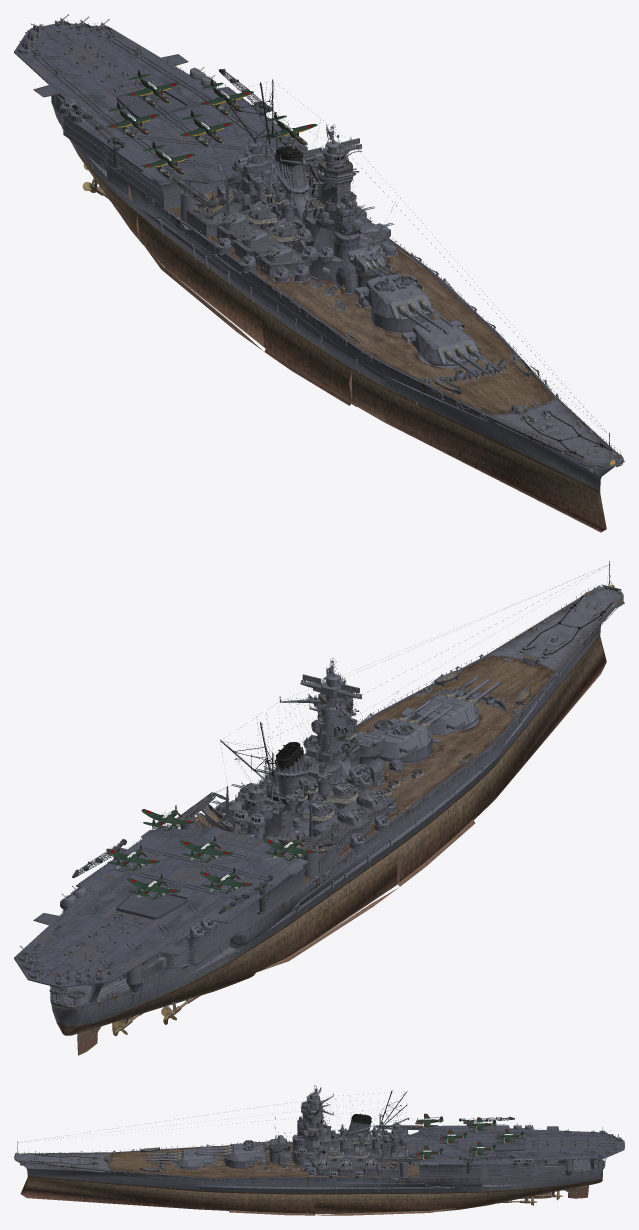
Rendered from japan_hybrid_warship_dewa-maximum-compressed.glb.
3 views of the same model, one above another, from view 1: azimuth 30°, elevation 25°; view 2: azimuth 150°, elevation 25°; view 3: azimuth 270°, elevation 25° (orthographic). The views are drawn at different scales.
Parts seen in each view (by area): view 1: HP_Bow, HP_MidBack, object 351, HP_MidFront, object 293, HP_JGM_1.002, HP_JGM_1.003, HP_Stern, object 349, object 295, HP_JD_7, HP_JGS_1 (+2 smaller); view 2: HP_MidBack, HP_Bow, object 351, HP_Stern, HP_MidFront, object 293, HP_JGM_1.002, HP_JGM_1.003, object 349, object 295, HP_JD_7, HP_Stern.004 (+2 smaller); view 3: HP_MidBack, HP_Bow, object 351, HP_MidFront, HP_Stern, object 293, HP_JGM_1.002, HP_JGM_1.003, object 295, HP_JC_1, object 349, HP_MidFront.001 (+4 smaller).
Part boxes in pixels (left/top/right/bottom): HP_Bow: left=280, top=150, right=624, bottom=532; HP_MidBack: left=128, top=81, right=400, bottom=351; object 351: left=14, top=23, right=307, bottom=183; HP_MidFront: left=262, top=229, right=479, bottom=406; object 293: left=56, top=80, right=307, bottom=208; HP_JGM_1.002: left=401, top=319, right=501, bottom=379; HP_JGM_1.003: left=354, top=274, right=453, bottom=333; HP_Stern: left=51, top=96, right=142, bottom=244; object 349: left=116, top=89, right=188, bottom=117; object 295: left=72, top=68, right=273, bottom=168; HP_JD_7: left=300, top=124, right=362, bottom=165; HP_JGS_1: left=347, top=245, right=393, bottom=277; HP_MidBack: left=217, top=691, right=402, bottom=972; HP_Bow: left=309, top=561, right=624, bottom=819; object 351: left=14, top=825, right=307, bottom=987; HP_Stern: left=49, top=914, right=267, bottom=1055; HP_MidFront: left=305, top=721, right=483, bottom=886; object 293: left=63, top=862, right=307, bottom=979; HP_JGM_1.002: left=401, top=675, right=501, bottom=735; HP_JGM_1.003: left=358, top=699, right=454, bottom=758; object 349: left=116, top=887, right=188, bottom=920; object 295: left=72, top=839, right=273, bottom=913; HP_JD_7: left=300, top=667, right=362, bottom=699; HP_Stern.004: left=52, top=816, right=318, bottom=1002; HP_MidBack: left=291, top=1090, right=459, bottom=1215; HP_Bow: left=14, top=1103, right=326, bottom=1210; object 351: left=408, top=1125, right=624, bottom=1165; HP_MidFront: left=217, top=1132, right=315, bottom=1215; HP_Stern: left=459, top=1158, right=606, bottom=1209; object 293: left=418, top=1128, right=565, bottom=1177; HP_JGM_1.002: left=146, top=1147, right=216, bottom=1167; HP_JGM_1.003: left=196, top=1141, right=266, bottom=1161; object 295: left=459, top=1116, right=514, bottom=1173; HP_JC_1: left=375, top=1125, right=419, bottom=1163; object 349: left=495, top=1137, right=525, bottom=1151; HP_MidFront.001: left=268, top=1145, right=290, bottom=1165.
Bounding box in the file's own units: 0.3216 × 0.3729 × 1.81.
Materials: 81 (79 with a texture image).
